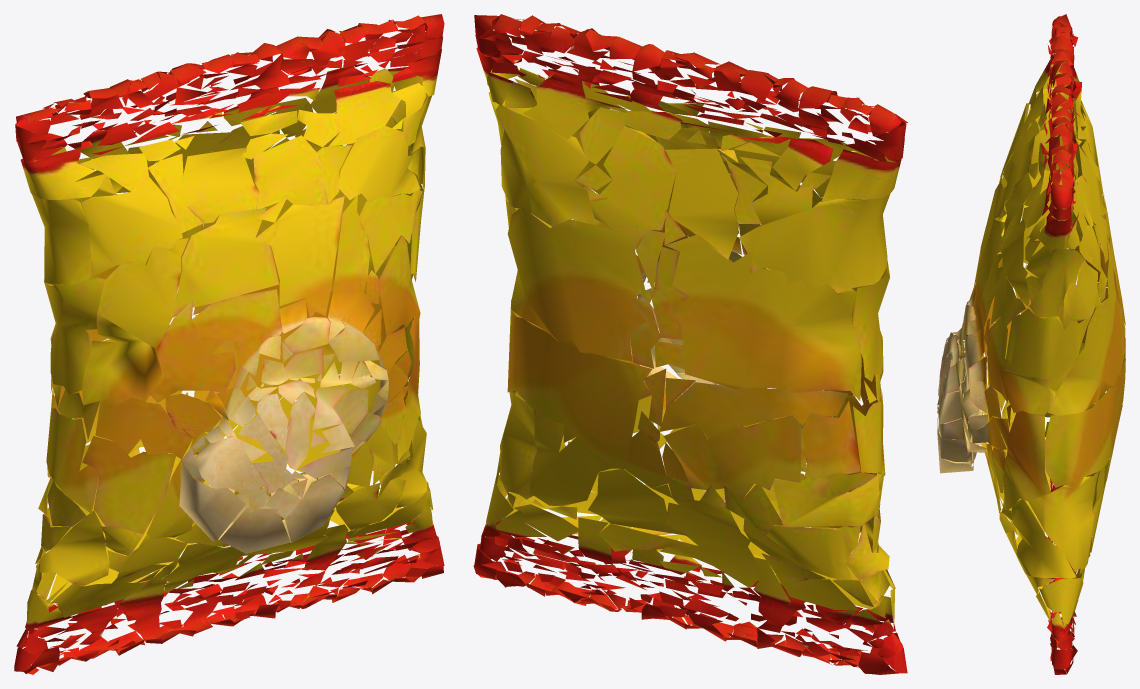
Rendered from waste-wrapper.glb.
3 views of the same model, side by side, from view 1: azimuth 30°, elevation 25°; view 2: azimuth 150°, elevation 25°; view 3: azimuth 270°, elevation 25° (orthographic). The views are drawn at different scales.
Parts seen in each view (by area): view 1: Mesh_0; view 2: Mesh_0; view 3: Mesh_0.
Part boxes in pixels (<box>): Mesh_0: <box>14,14,444,674</box>; Mesh_0: <box>473,14,907,674</box>; Mesh_0: <box>937,14,1125,674</box>.
Size of the model in its own units: 1.49 by 1.91 by 0.6536.
1 material, 1 textured.
